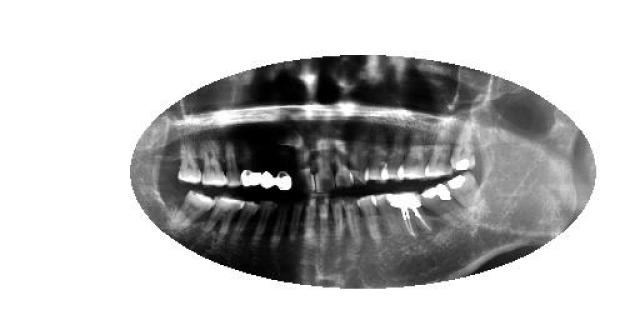Fillings: (442, 174, 488, 211), (421, 184, 464, 221), (447, 128, 478, 172), (240, 168, 264, 188), (275, 170, 293, 191), (263, 169, 275, 190)
Implant: (388, 189, 432, 239)
